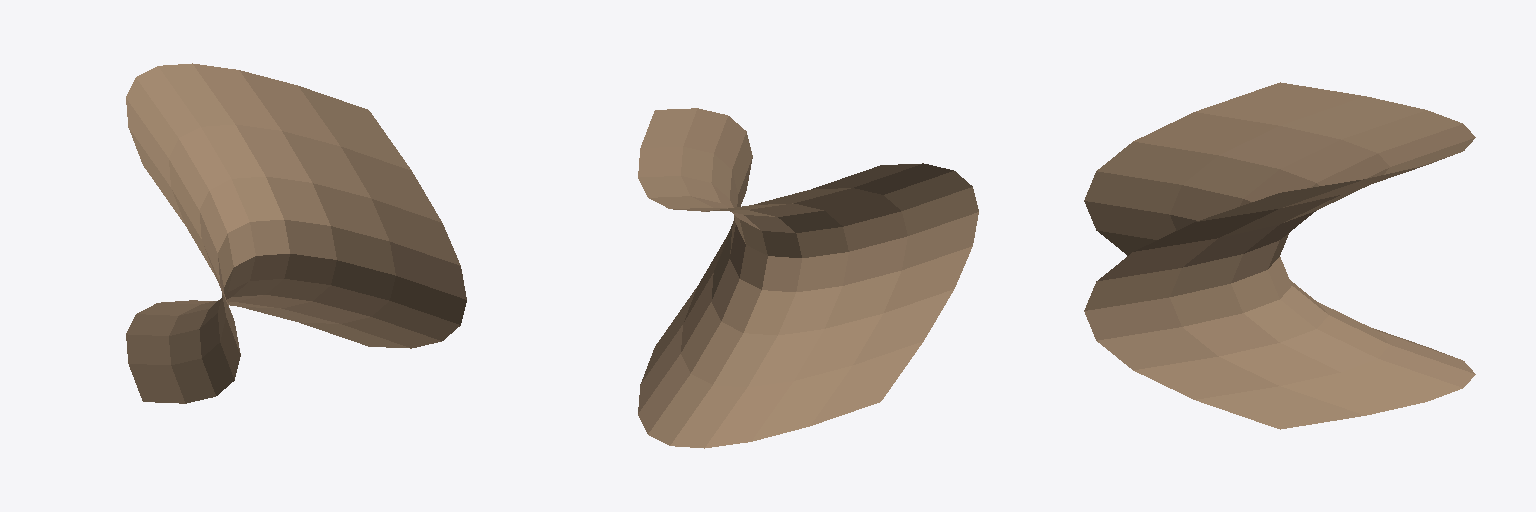
Rendered from hyperbolic_paraboloid.obj.
The picture shows the model from 3 angles: view 1: azimuth 30°, elevation 25°; view 2: azimuth 150°, elevation 25°; view 3: azimuth 270°, elevation 25°; orthographic projection.
Size of the model in its own units: 3 by 3 by 4.5.